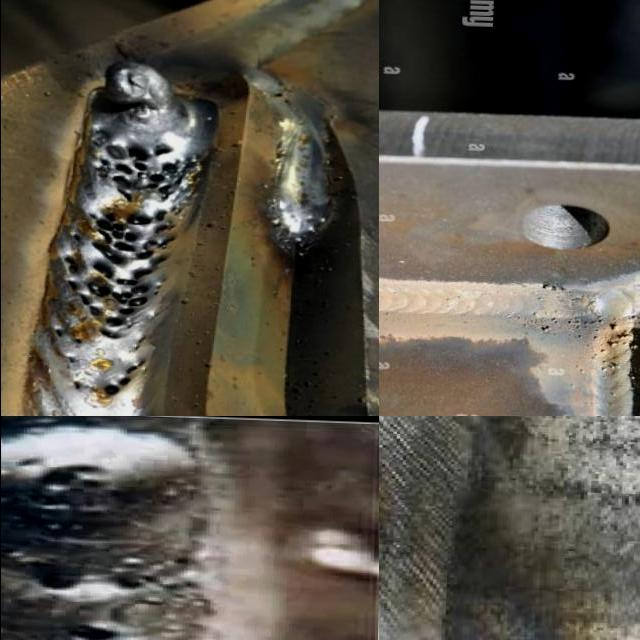defect: (59, 205, 181, 337), (92, 136, 200, 206), (3, 450, 119, 515), (100, 550, 211, 595), (95, 355, 156, 405), (591, 315, 632, 373), (63, 619, 145, 640), (28, 572, 86, 595), (566, 314, 603, 340), (129, 329, 152, 349), (65, 374, 86, 393), (49, 327, 65, 341), (539, 325, 556, 336), (540, 282, 556, 291), (65, 355, 77, 367), (73, 336, 87, 346), (531, 310, 543, 319), (550, 316, 560, 325)
